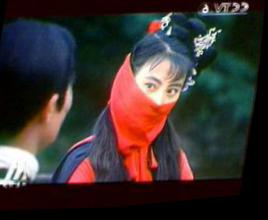WRONG: (121, 67, 189, 142)
